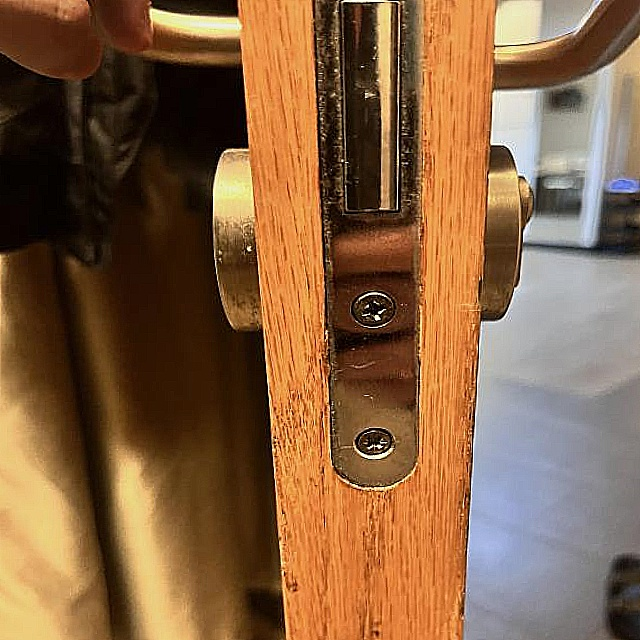phillips: (351, 292, 397, 328)
pozidriv: (355, 429, 393, 456)
